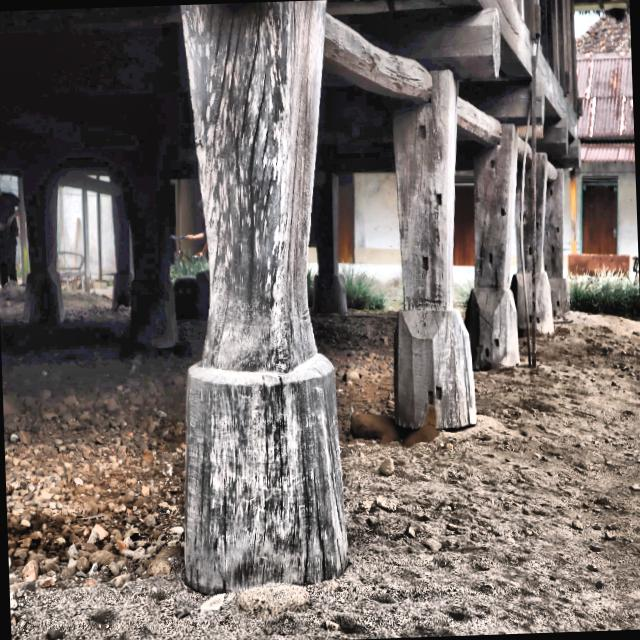column: (181, 0, 347, 594), (391, 69, 475, 428), (460, 123, 520, 370), (509, 152, 554, 332), (312, 173, 346, 311), (540, 168, 569, 317)
